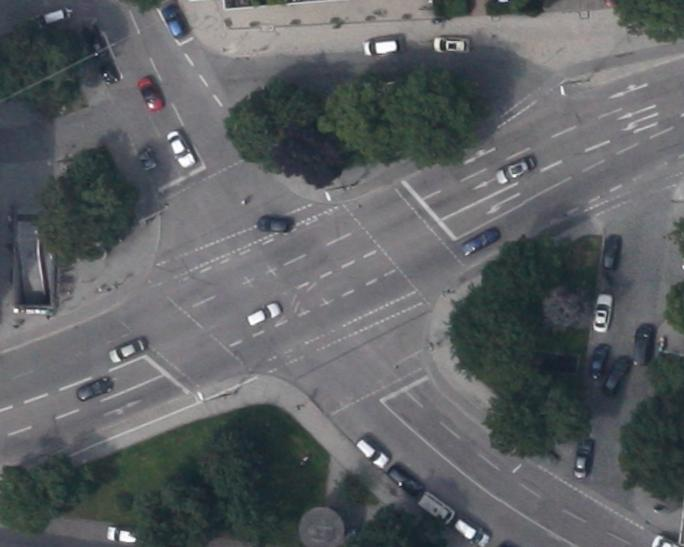car: (415, 490, 456, 526), (386, 462, 424, 499), (164, 128, 196, 170), (494, 156, 536, 186), (450, 514, 488, 547), (601, 357, 632, 396), (460, 226, 500, 256), (355, 436, 390, 470), (244, 300, 282, 329), (136, 76, 164, 114), (160, 3, 188, 40), (108, 337, 146, 364), (75, 376, 114, 402), (33, 4, 72, 30), (633, 324, 656, 367), (591, 292, 614, 334), (571, 438, 593, 479), (586, 345, 610, 382), (600, 232, 622, 270), (96, 55, 121, 87), (362, 37, 401, 57), (432, 36, 470, 54), (106, 524, 140, 544), (258, 214, 292, 232), (138, 146, 158, 172)
